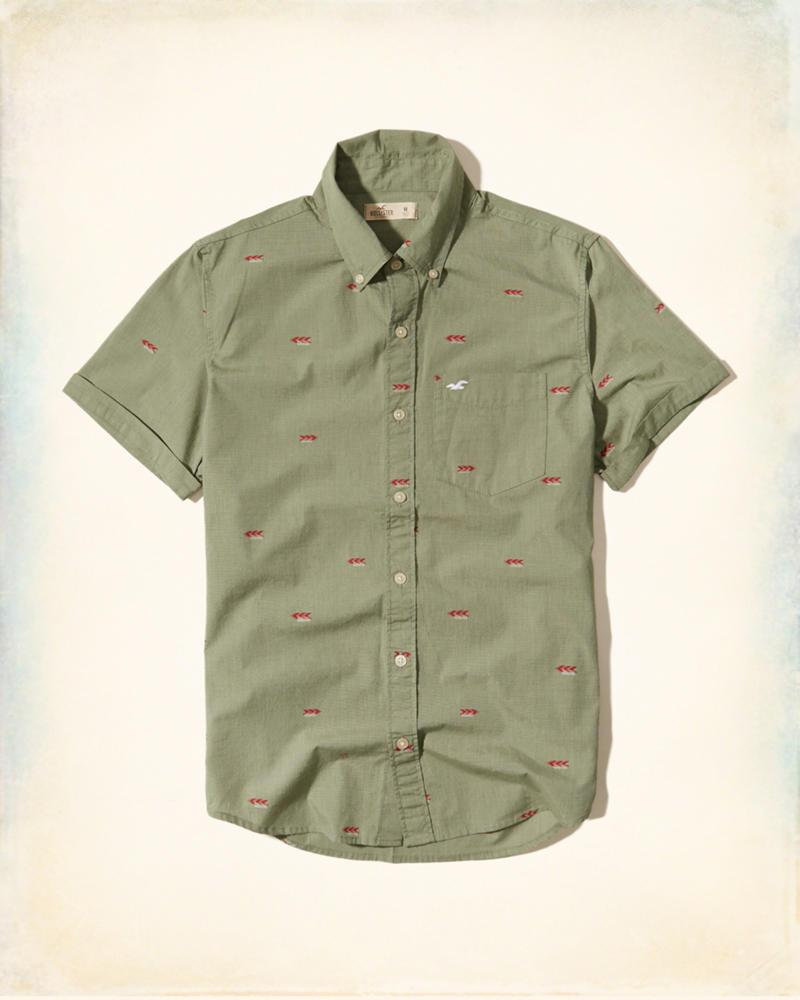teeshirt: (58, 125, 732, 887)
